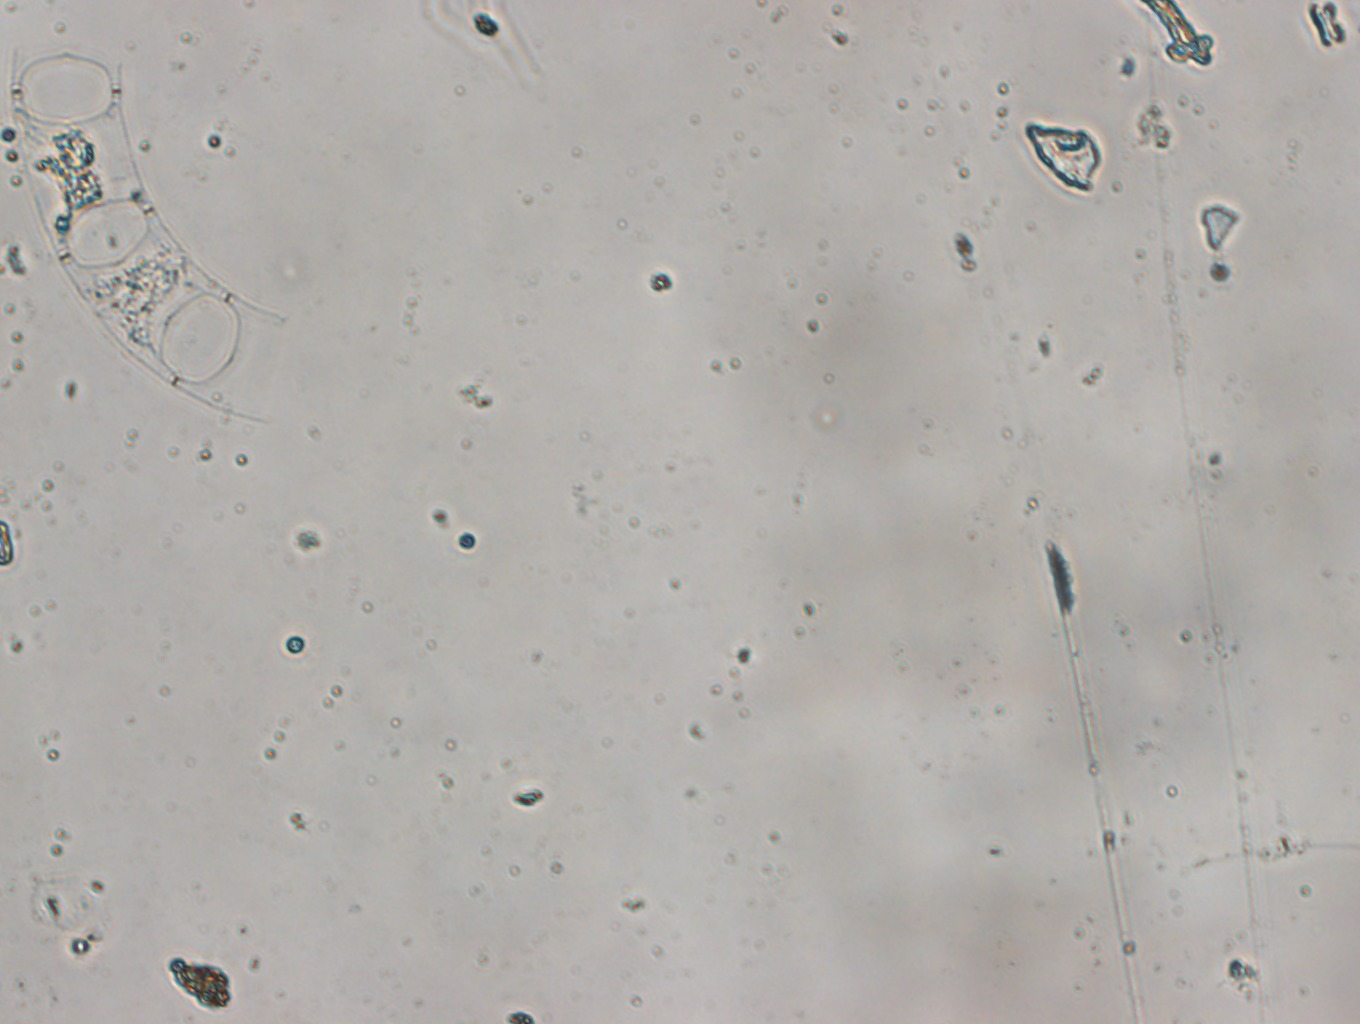eucampia: (8, 44, 280, 430)
